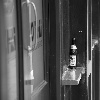beer: (67, 36, 80, 72)
